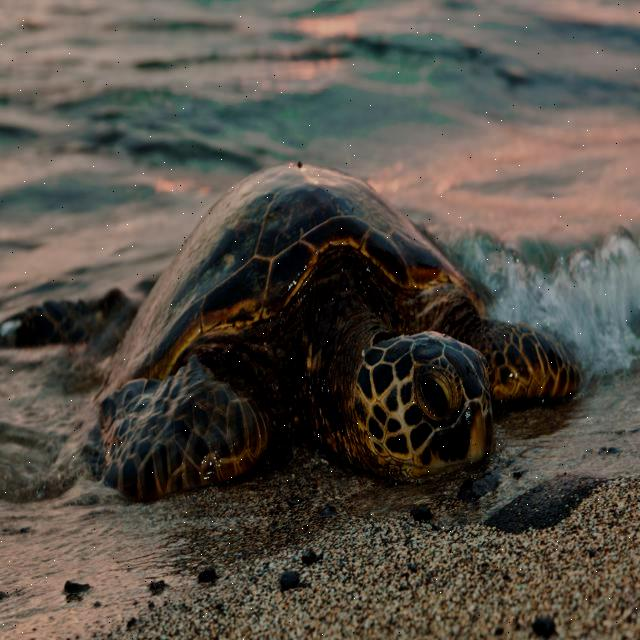tortoise: (71, 155, 576, 502)
